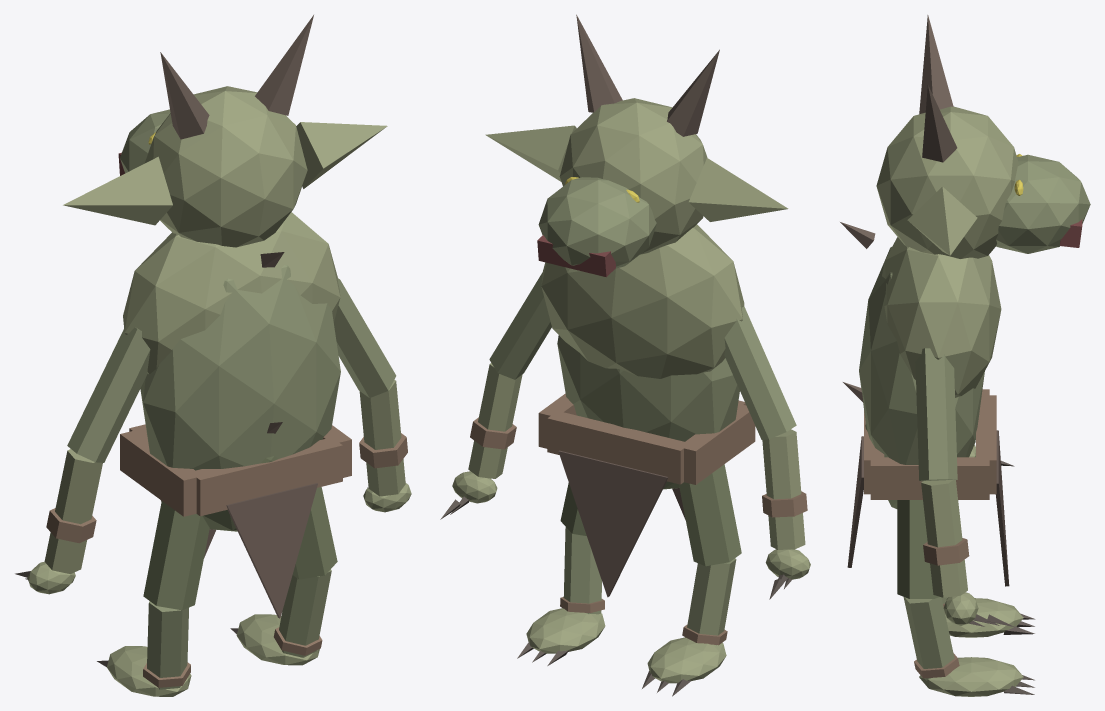
File: biped_tier_1_imp_grunt.glb
3 renders of one model, left to right at view 1: azimuth 30°, elevation 25°; view 2: azimuth 150°, elevation 25°; view 3: azimuth 270°, elevation 25°, orthographic. The views are drawn at different scales.
Visible parts, largest first — view 1: torso, head, chest, back_loincloth, belt_back, upper_arm_L, thigh_L, ear_L, forearm_L, upper_arm_R, belt_L, forearm_R (+13 smaller); view 2: chest, head, torso, front_loincloth, snout, belt_front, upper_arm_L, thigh_L, forearm_L, ear_L, upper_arm_R, forearm_R (+15 smaller); view 3: head, chest, torso, snout, upper_arm_R, forearm_R, belt_R, thigh_R, foot_R, shin_R, ear_R, foot_L (+10 smaller).
Boxes of the visible parts, x1=… form: torso: x1=140, y1=265, x2=340, y2=470; head: x1=144, y1=86, x2=307, y2=247; chest: x1=123, y1=212, x2=340, y2=374; back_loincloth: x1=226, y1=483, x2=317, y2=618; belt_back: x1=189, y1=439, x2=342, y2=516; upper_arm_L: x1=67, y1=327, x2=150, y2=462; thigh_L: x1=143, y1=501, x2=209, y2=610; ear_L: x1=63, y1=156, x2=172, y2=225; forearm_L: x1=44, y1=449, x2=102, y2=574; upper_arm_R: x1=334, y1=278, x2=396, y2=397; belt_L: x1=120, y1=429, x2=196, y2=516; forearm_R: x1=359, y1=380, x2=405, y2=496; chest: x1=541, y1=224, x2=744, y2=378; head: x1=559, y1=98, x2=707, y2=254; torso: x1=557, y1=335, x2=739, y2=441; front_loincloth: x1=558, y1=450, x2=668, y2=597; snout: x1=538, y1=177, x2=656, y2=268; belt_front: x1=547, y1=412, x2=690, y2=484; upper_arm_L: x1=724, y1=306, x2=796, y2=439; thigh_L: x1=679, y1=464, x2=741, y2=566; forearm_L: x1=762, y1=429, x2=805, y2=549; ear_L: x1=689, y1=158, x2=788, y2=221; upper_arm_R: x1=489, y1=272, x2=551, y2=379; forearm_R: x1=468, y1=363, x2=522, y2=478; head: x1=876, y1=106, x2=1018, y2=258; chest: x1=882, y1=237, x2=1001, y2=397; torso: x1=859, y1=247, x2=984, y2=464; snout: x1=996, y1=154, x2=1090, y2=253; upper_arm_R: x1=915, y1=348, x2=957, y2=481; forearm_R: x1=921, y1=480, x2=967, y2=597; belt_R: x1=870, y1=457, x2=989, y2=499; thigh_R: x1=897, y1=500, x2=939, y2=598; foot_R: x1=919, y1=657, x2=1023, y2=696; shin_R: x1=903, y1=597, x2=954, y2=680; ear_R: x1=907, y1=186, x2=977, y2=255; foot_L: x1=945, y1=598, x2=1023, y2=637.
Size of the model in its own units: 0.999 by 1.64 by 0.61.
